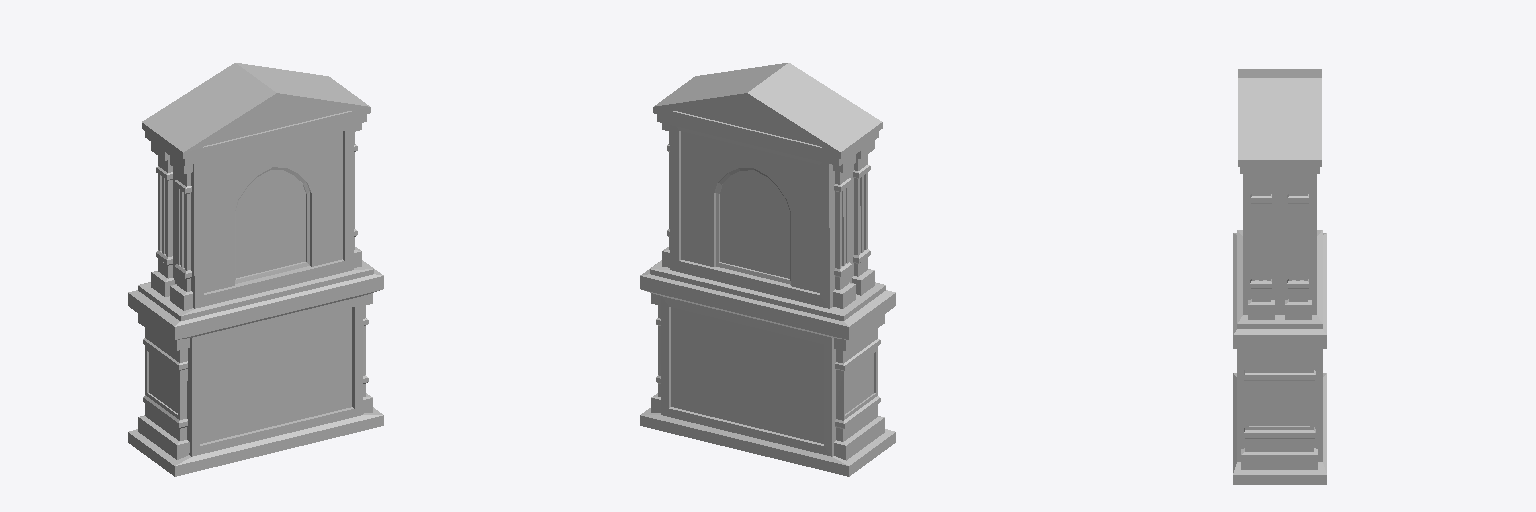
The model's file is tomb.obj.
3 views of the same model, side by side, from view 1: azimuth 30°, elevation 25°; view 2: azimuth 150°, elevation 25°; view 3: azimuth 270°, elevation 25° (orthographic).
Visible parts, largest first — view 1: polySurface13; view 2: polySurface13; view 3: polySurface13.
Part boxes in pixels (x1,y1,x2,y2): polySurface13: (128, 63, 383, 476); polySurface13: (640, 63, 895, 476); polySurface13: (1233, 69, 1326, 484).
Bounding box in the file's own units: 8.62 × 14.03 × 3.35.